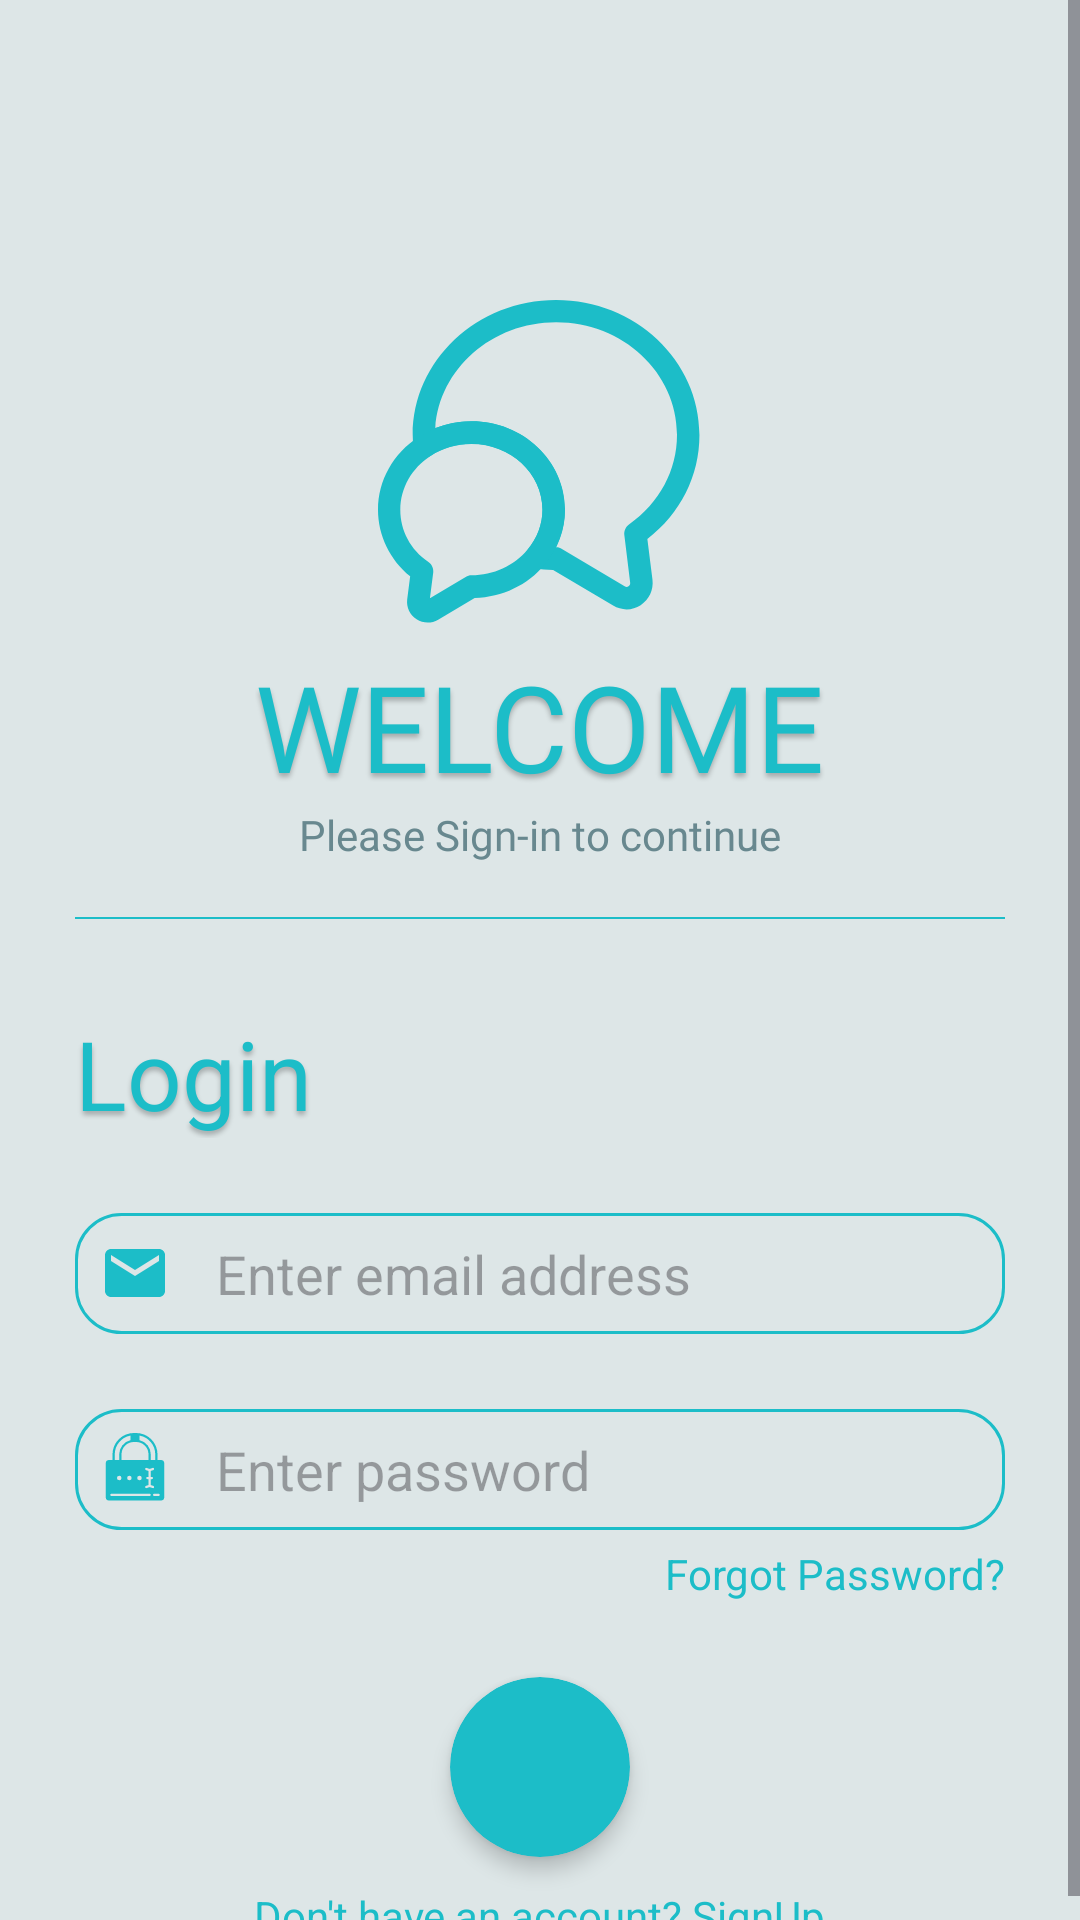

Icon bounding boxes for this 1080*1920 phone screenshot, format (x1, y1, x2, y2):
messages: (378, 300, 700, 623)
